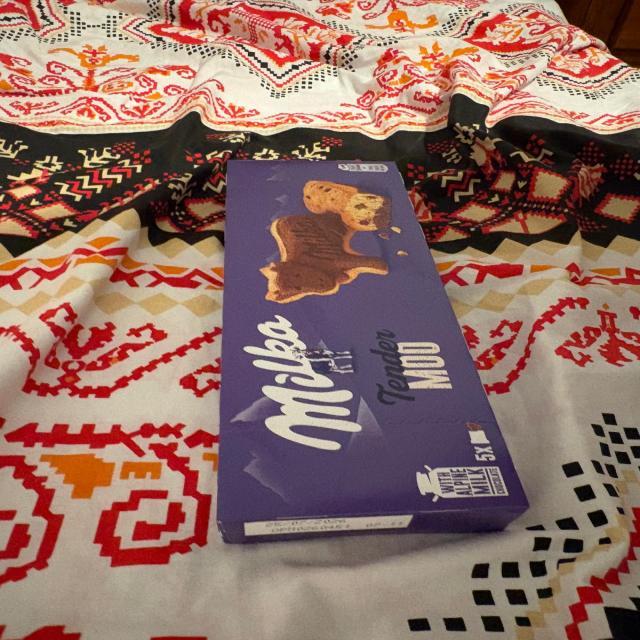good_package: (218, 160, 527, 542)
